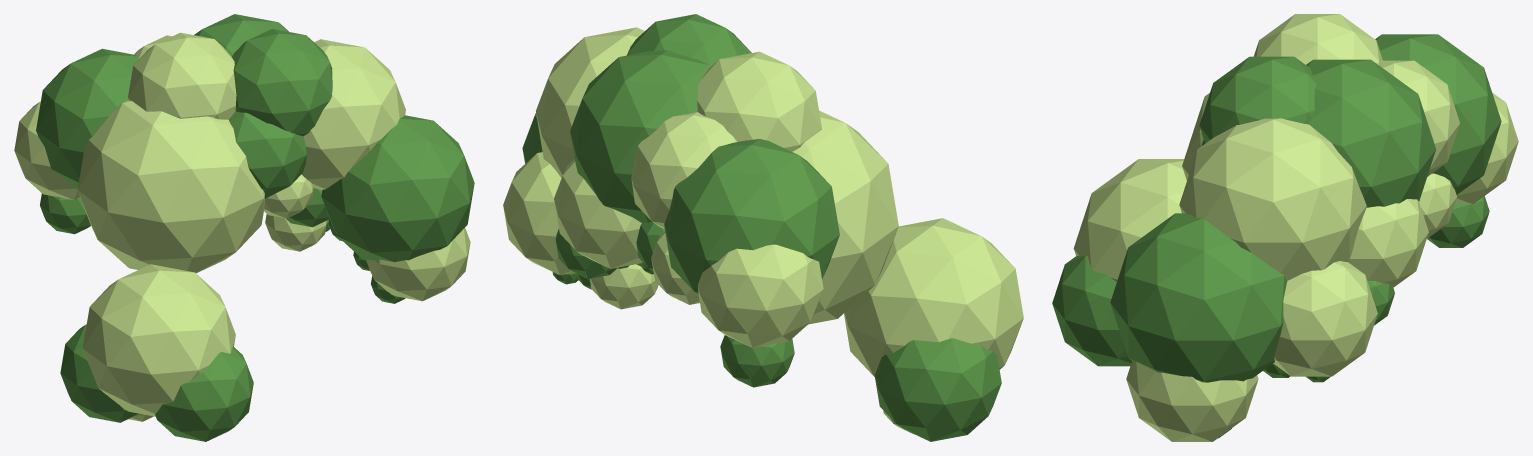
The model's file is tree.glb.
3 renders of one model, left to right at view 1: azimuth 30°, elevation 25°; view 2: azimuth 150°, elevation 25°; view 3: azimuth 270°, elevation 25°, orthographic. The views are drawn at different scales.
Visible parts, largest first — view 1: Icosphere.010, Icosphere.013, Icosphere.009, Icosphere.008, Icosphere.033, Icosphere.011, Icosphere.032, Icosphere.002, Icosphere.006, Icosphere.004, Icosphere.012, Icosphere.001 (+5 smaller); view 2: Icosphere.013, Icosphere.011, Icosphere.007, Icosphere.010, Icosphere.012, Icosphere.001, Icosphere.032, Icosphere, Icosphere.008, Icosphere.003, Icosphere.005, Icosphere.033 (+6 smaller); view 3: Icosphere.009, Icosphere.008, Icosphere.007, Icosphere.005, Icosphere.013, Icosphere.011, Icosphere.004, Icosphere.033, Icosphere.002, Icosphere.003, Icosphere.032, Icosphere (+5 smaller).
Boxes of the visible parts, x1,y1,x2,y2 form: Icosphere.010: [77, 100, 265, 273]; Icosphere.013: [82, 264, 235, 416]; Icosphere.009: [321, 115, 474, 262]; Icosphere.008: [301, 39, 405, 190]; Icosphere.033: [232, 29, 332, 136]; Icosphere.011: [36, 48, 138, 188]; Icosphere.032: [128, 32, 236, 119]; Icosphere.002: [155, 346, 253, 441]; Icosphere.006: [229, 111, 307, 198]; Icosphere.004: [366, 228, 470, 301]; Icosphere.012: [60, 324, 138, 422]; Icosphere.001: [14, 101, 79, 199]; Icosphere.013: [844, 218, 1023, 376]; Icosphere.011: [664, 139, 839, 294]; Icosphere.007: [570, 50, 710, 223]; Icosphere.010: [792, 110, 898, 324]; Icosphere.012: [875, 338, 1001, 441]; Icosphere.001: [697, 244, 823, 347]; Icosphere.032: [697, 51, 821, 151]; Icosphere: [631, 112, 737, 228]; Icosphere.008: [536, 27, 644, 177]; Icosphere.003: [554, 159, 642, 268]; Icosphere.005: [503, 152, 573, 275]; Icosphere.033: [627, 14, 751, 66]; Icosphere.009: [1110, 213, 1287, 382]; Icosphere.008: [1179, 118, 1366, 280]; Icosphere.007: [1306, 59, 1436, 207]; Icosphere.005: [1273, 261, 1377, 376]; Icosphere.013: [1073, 159, 1186, 281]; Icosphere.011: [1375, 34, 1501, 194]; Icosphere.004: [1126, 361, 1258, 441]; Icosphere.033: [1199, 56, 1316, 143]; Icosphere.002: [1052, 255, 1131, 366]; Icosphere.003: [1347, 199, 1428, 287]; Icosphere.032: [1254, 14, 1382, 65]; Icosphere: [1380, 60, 1459, 176].
Bounding box in the file's own units: 4.58 × 3.66 × 3.96.
